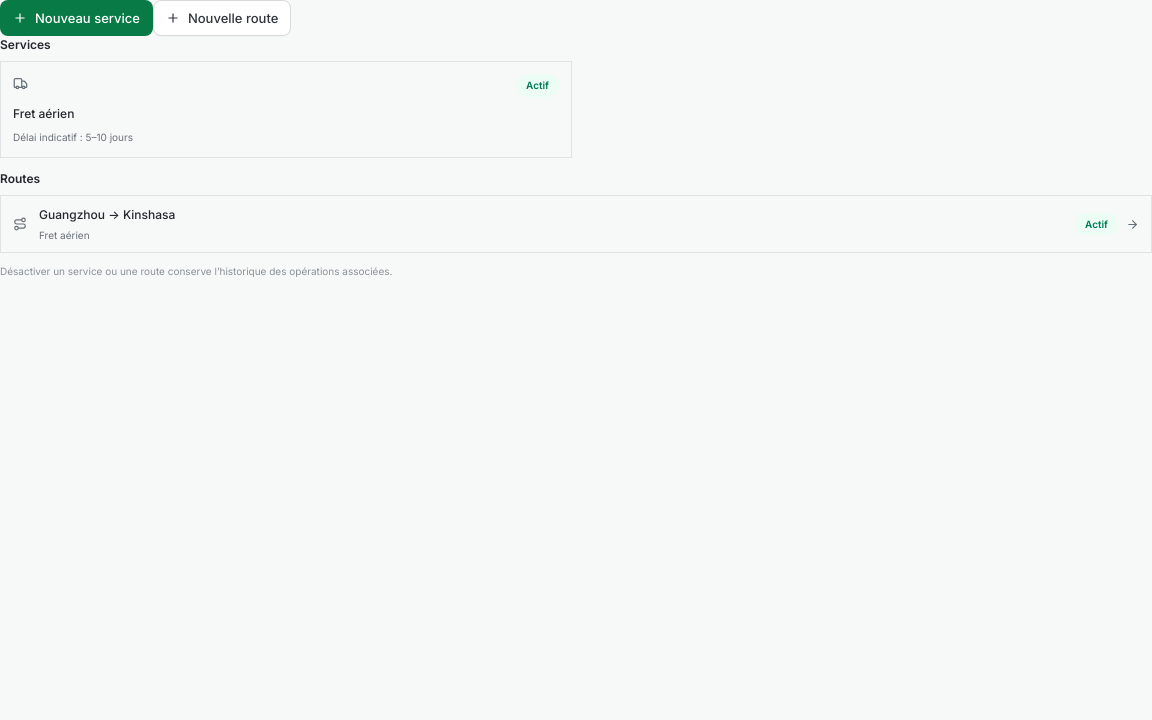
Test case: agency transport settings › places management creation actions in the page header without a duplicate title
Expected: the button "Nouvelle route" is shown, [153,0,291,36]
Click the button "Nouveau service".
click(76, 18)  # box [0,0,153,36]
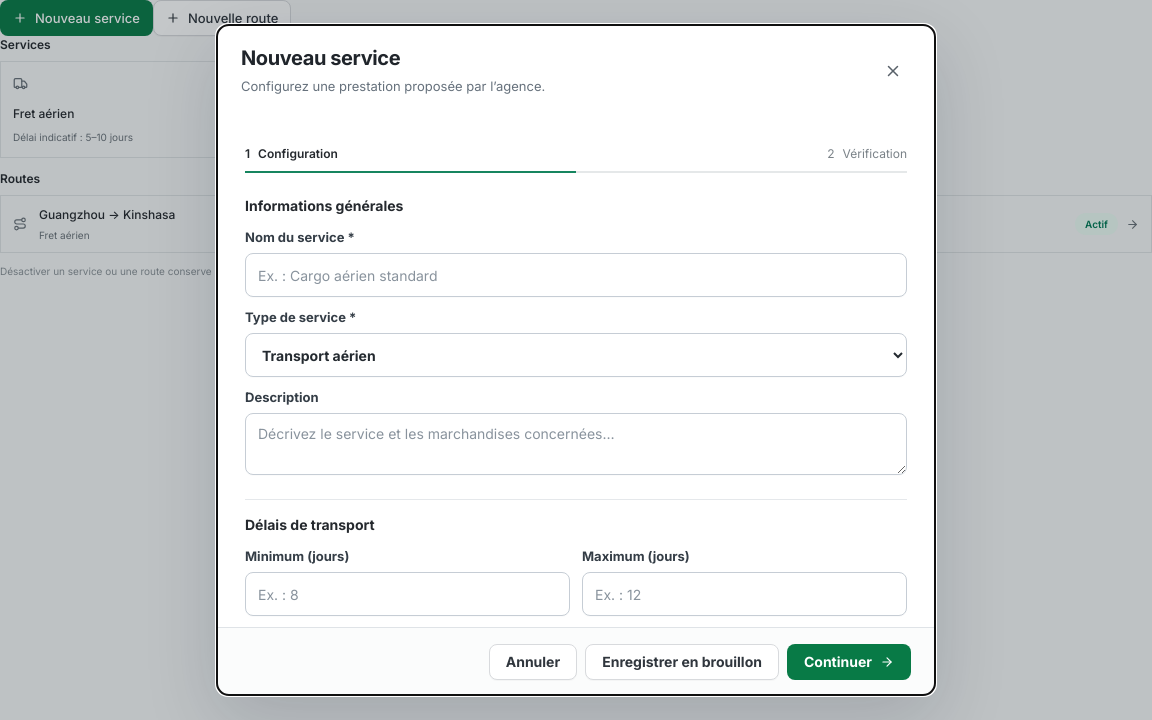
Expected: the dialog is shown
